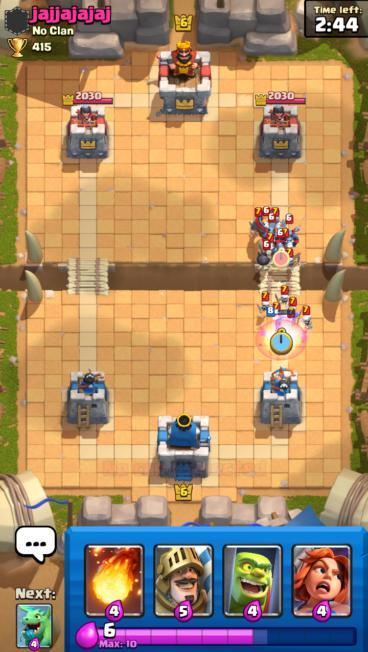ally_musketeer: (269, 306, 300, 339)
enemy_bomber: (253, 240, 279, 269)
enemy_knight: (247, 206, 283, 247)
enemy_minion: (280, 212, 303, 248), (270, 228, 293, 263), (262, 212, 281, 244)
enemy_skeleton: (248, 204, 268, 238), (256, 290, 274, 317), (298, 303, 314, 332), (275, 283, 292, 309), (268, 206, 282, 235), (285, 295, 300, 320)
